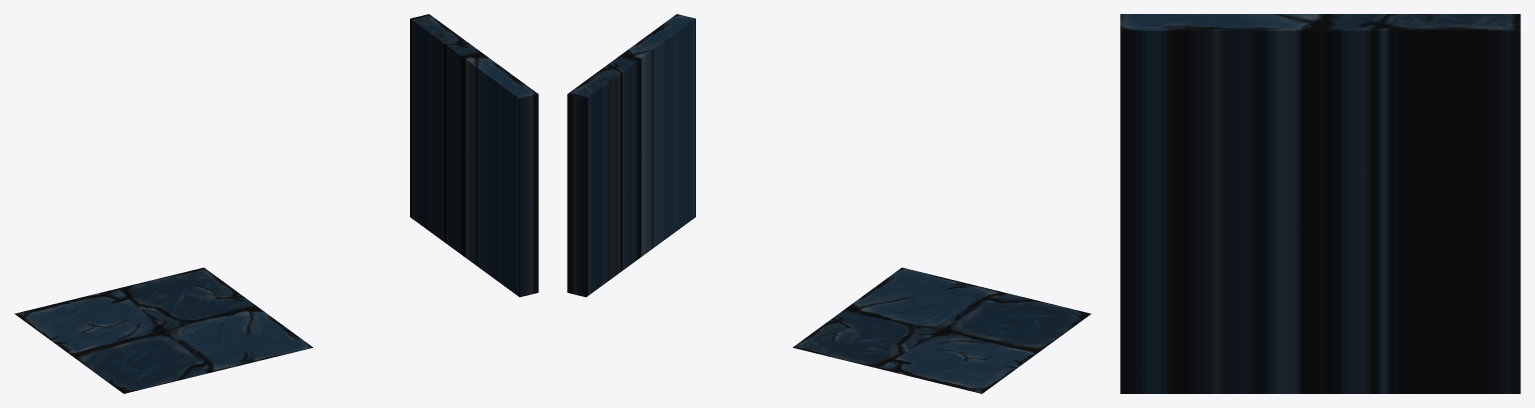
Rendered from GridMap_A.glb.
The picture shows the model from 3 angles, left to right: view 1: azimuth 30°, elevation 25°; view 2: azimuth 150°, elevation 25°; view 3: azimuth 270°, elevation 25°; orthographic projection. The views are drawn at different scales.
Visible parts, largest first — view 1: Wall_Stone_Blue, Floor_Stone_Blue; view 2: Wall_Stone_Blue, Floor_Stone_Blue; view 3: Wall_Stone_Blue.
Boxes of the visible parts, x1,y1,x2,y2 form: Wall_Stone_Blue: (410,14,538,297); Floor_Stone_Blue: (14,267,312,393); Wall_Stone_Blue: (567,14,695,297); Floor_Stone_Blue: (793,267,1091,393); Wall_Stone_Blue: (1120,14,1520,393).
Size of the model in its own units: 4.37 by 2 by 2.
Materials: 1 (1 with a texture image).
